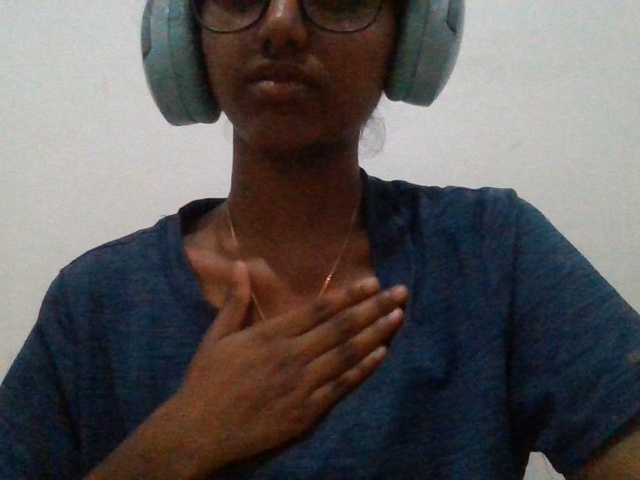Please: (156, 236, 474, 454)
